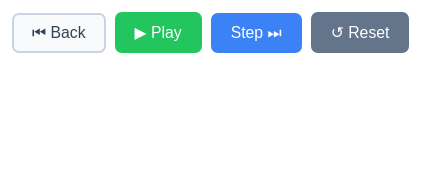
Test: StepController › shows Play button when not playing, and switches to Pause on click
This screenshot has width=436, height=172.
Expected: the button "Pause" is not shown
Click the button "▶ Play" at {"x": 158, "y": 32}, box [115,12,202,53]
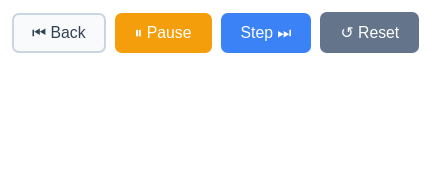
Expected: the button "Play" is gone
Expected: the button "⏸ Pause" is shown, [115,12,212,52]
